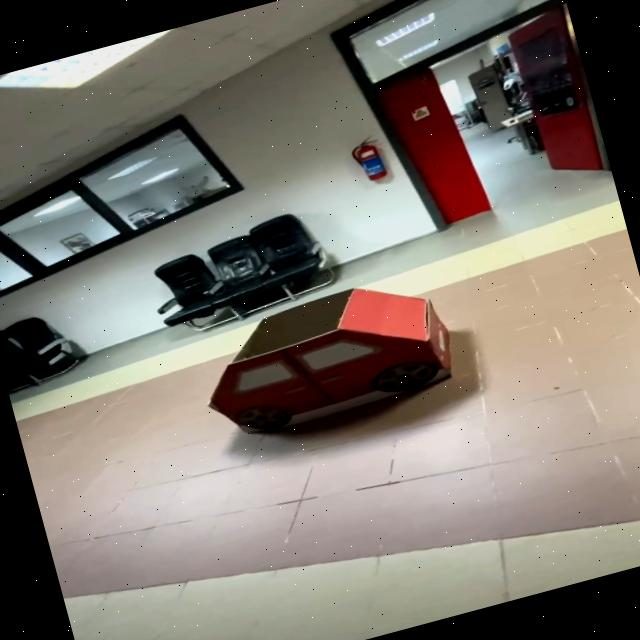red_car: (165, 253, 486, 459)
